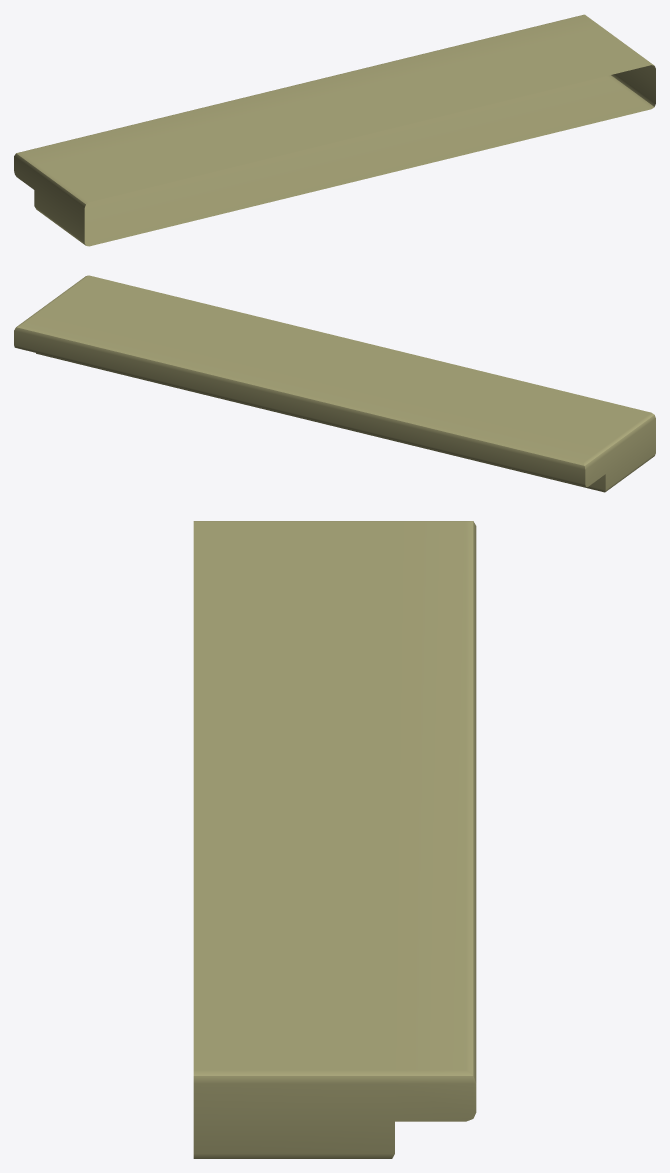
The model's file is SM_TB_Ledge2.fbx.
3 views of the same model, one above another, from view 1: azimuth 30°, elevation 25°; view 2: azimuth 150°, elevation 25°; view 3: azimuth 270°, elevation 25° (orthographic). The views are drawn at different scales.
Parts seen in each view (by area): view 1: SM_TB_Ledge2; view 2: SM_TB_Ledge2; view 3: SM_TB_Ledge2.
Boxes of the visible parts, x1,y1,x2,y2 form: SM_TB_Ledge2: (14,14,655,246); SM_TB_Ledge2: (14,275,655,492); SM_TB_Ledge2: (193,521,476,1158).
Bounding box in the file's own units: 381 × 28.14 × 81.69.
